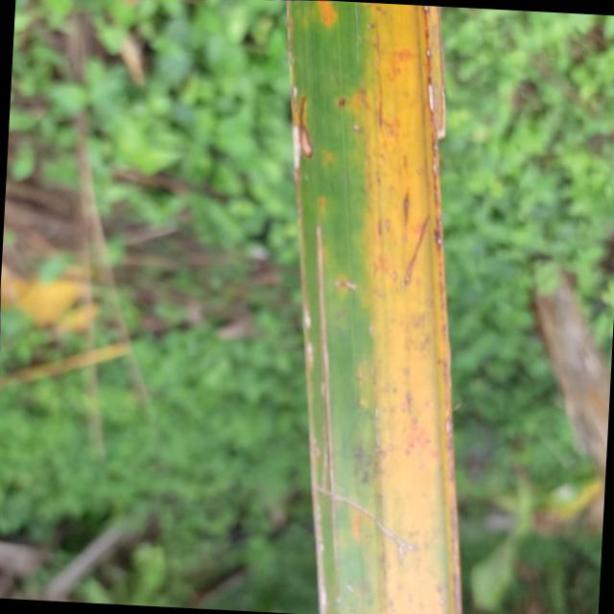Megnesium: (294, 0, 465, 614)
